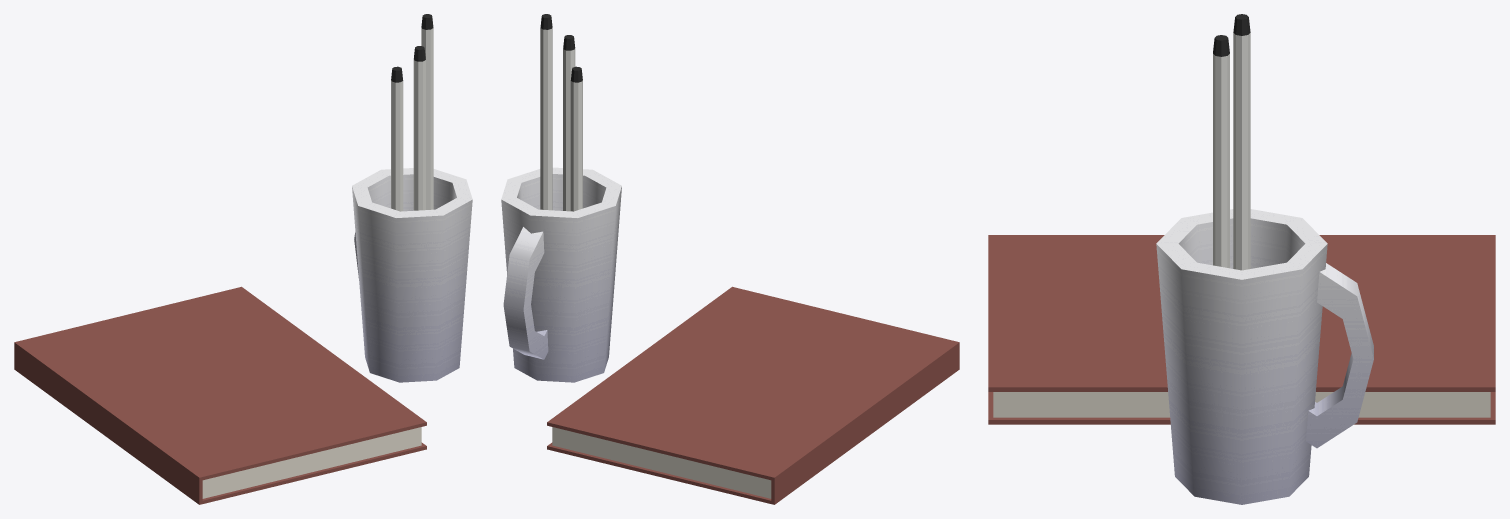
The picture shows the model from 3 angles, left to right: view 1: azimuth 30°, elevation 25°; view 2: azimuth 150°, elevation 25°; view 3: azimuth 270°, elevation 25°; orthographic projection. The views are drawn at different scales.
Visible parts, largest first — view 1: life-notebook-cover-top, life-pen-holder, life-notebook-pages, life-notebook-spine, life-pen-2, life-notebook-cover-bottom, life-pen-1, life-pen-3; view 2: life-notebook-cover-top, life-pen-holder, life-notebook-pages, life-notebook-spine, life-pen-3, life-notebook-cover-bottom, life-pen-1, life-pen-2; view 3: life-notebook-cover-top, life-pen-holder, life-notebook-pages, life-pen-3, life-pen-2, life-notebook-cover-bottom.
Part boxes in pixels (left/top/right/bottom): life-notebook-cover-top: left=14, top=286, right=426, bottom=480; life-pen-holder: left=352, top=168, right=472, bottom=382; life-notebook-pages: left=202, top=427, right=421, bottom=498; life-notebook-spine: left=14, top=346, right=202, bottom=501; life-pen-2: left=413, top=46, right=425, bottom=210; life-notebook-cover-bottom: left=14, top=366, right=426, bottom=504; life-pen-1: left=391, top=66, right=403, bottom=211; life-pen-3: left=421, top=14, right=433, bottom=209; life-notebook-cover-top: left=547, top=286, right=959, bottom=480; life-pen-holder: left=501, top=167, right=621, bottom=382; life-notebook-pages: left=552, top=427, right=771, bottom=498; life-notebook-spine: left=771, top=346, right=959, bottom=501; life-pen-3: left=540, top=14, right=552, bottom=210; life-notebook-cover-bottom: left=547, top=366, right=959, bottom=504; life-pen-1: left=570, top=66, right=582, bottom=211; life-pen-2: left=563, top=35, right=575, bottom=211; life-notebook-cover-top: left=988, top=235, right=1495, bottom=391; life-pen-holder: left=1156, top=209, right=1373, bottom=504; life-notebook-pages: left=993, top=392, right=1490, bottom=417; life-pen-3: left=1233, top=14, right=1250, bottom=270; life-pen-2: left=1213, top=35, right=1229, bottom=268; life-notebook-cover-bottom: left=988, top=392, right=1495, bottom=424.
Size of the model in its own units: 0.166 by 0.1513 by 0.148.
4 materials, 1 textured.
